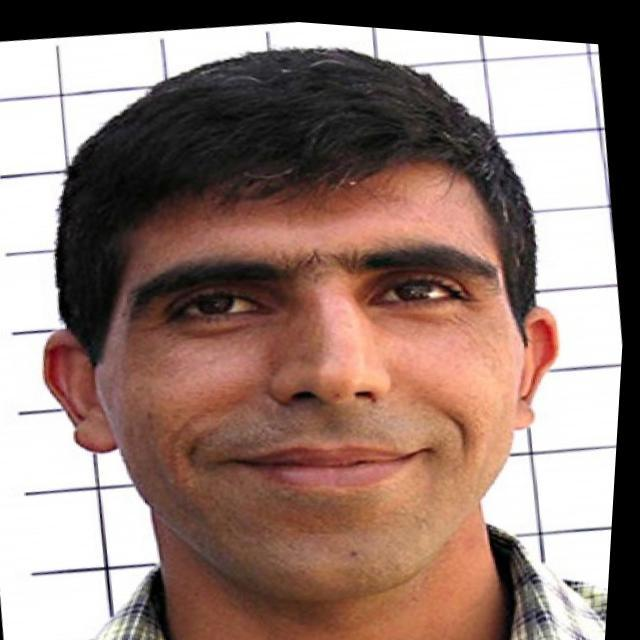Nonhelmet: (38, 43, 566, 605)
